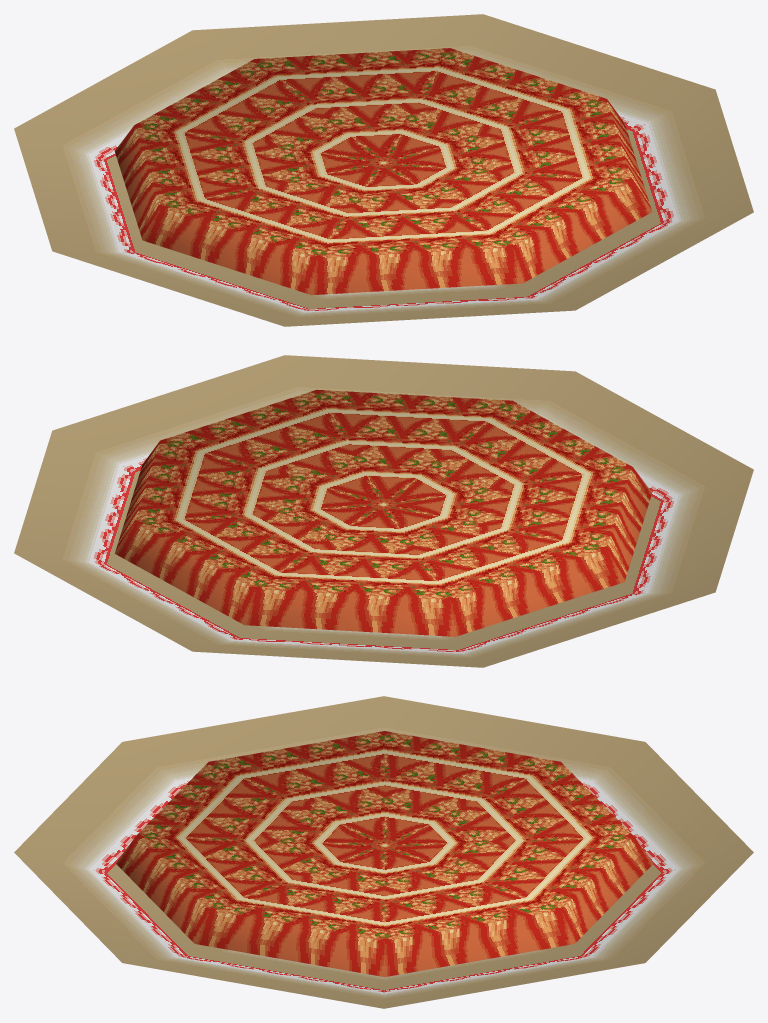
File: 1153ucc_mis_piz1.gltf
The picture shows the model from 3 angles, top to bottom: view 1: azimuth 30°, elevation 25°; view 2: azimuth 150°, elevation 25°; view 3: azimuth 270°, elevation 25°; orthographic projection. The views are drawn at different scales.
Visible parts, largest first — view 1: 1153ucc_mis_piz1; view 2: 1153ucc_mis_piz1; view 3: 1153ucc_mis_piz1.
Part boxes in pixels (bbox=[...]): 1153ucc_mis_piz1: bbox=[14, 14, 753, 326]; 1153ucc_mis_piz1: bbox=[14, 355, 753, 667]; 1153ucc_mis_piz1: bbox=[14, 696, 753, 1008].
Size of the model in its own units: 0.9009 by 0.1926 by 0.9009.
Materials: 4 (4 with a texture image).
